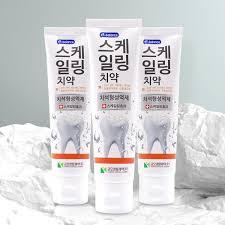toothpaste: (87, 15, 139, 217), (43, 22, 95, 207), (133, 24, 183, 207)
